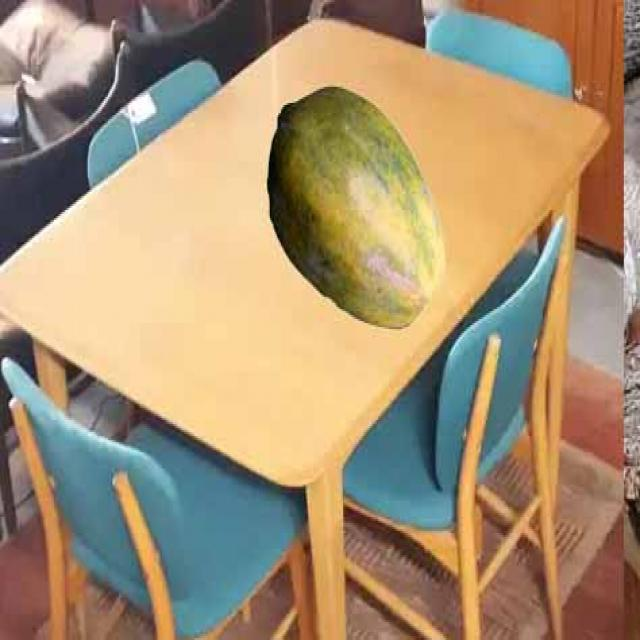Pepaya rippen: (262, 85, 447, 331)
